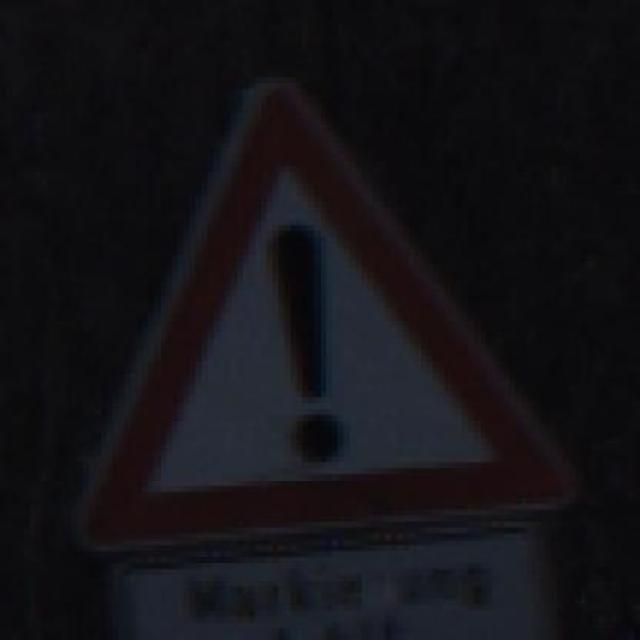Attention Please-: (41, 66, 592, 552)
